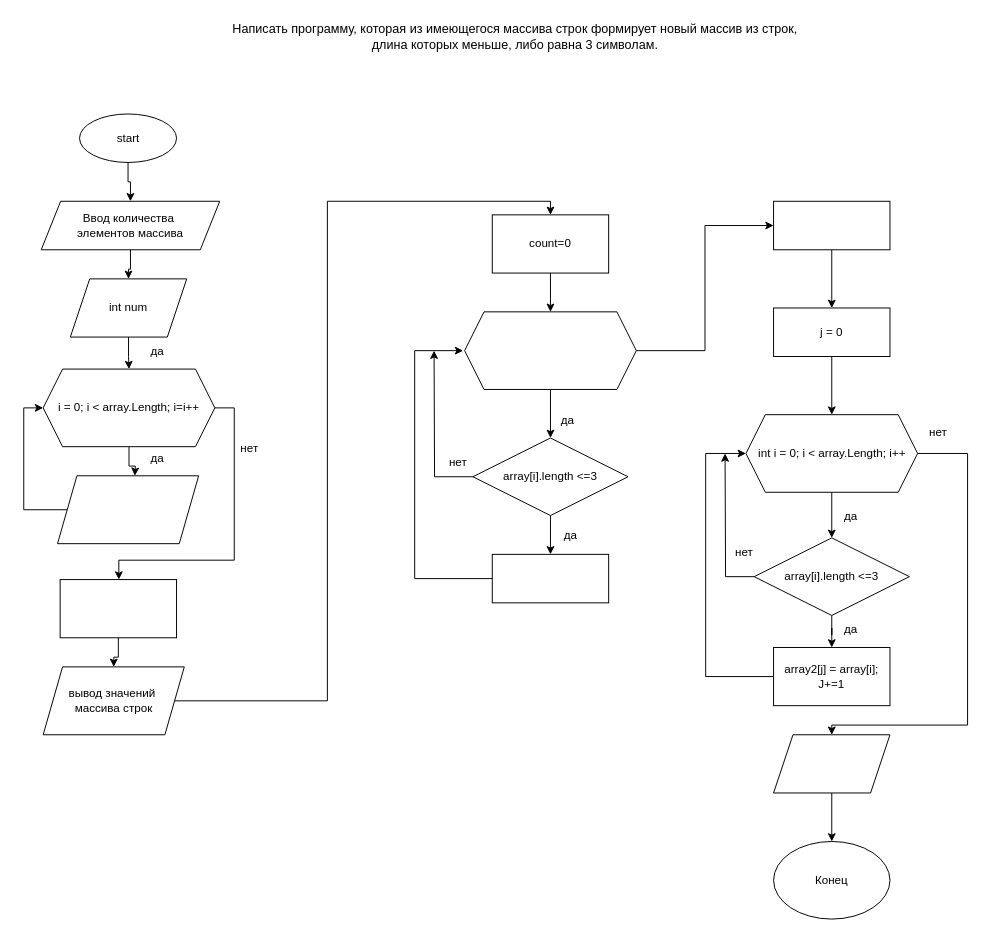
Image size: 992x936. Some labels were removed from this diagram. Here are the shapes that lost their labels. From the top down, the box of each, then its label:
(773, 200, 890, 250): создание массива array2
(464, 311, 636, 389): i = 0; i < array.Length; i++
(57, 475, 199, 544): ввод элемента массива
(491, 553, 609, 603): count = count++
(59, 579, 177, 638): Создание массива строк
(773, 734, 890, 793): вывод значений массива array2
